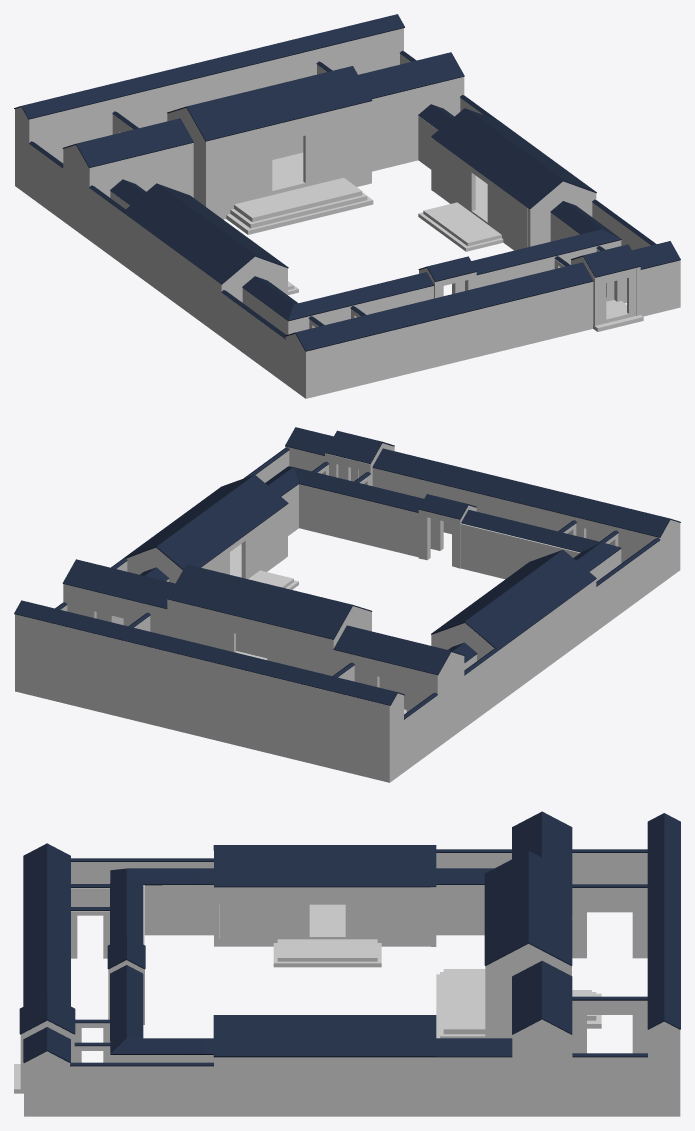
Rendered from mesh_complex.fbx.
3 views of the same model, one above another, from view 1: azimuth 30°, elevation 25°; view 2: azimuth 150°, elevation 25°; view 3: azimuth 270°, elevation 25° (orthographic). The views are drawn at different scales.
Visible parts, largest first — view 1: polySurface2690, polySurface2737, polySurface2688, hwall32, polySurface2713, pCube10, polySurface2684, hwall, hwall37, hwall16, sbuildingwall_inner, polySurface2702 (+29 smaller); view 2: polySurface2690, fence_back, polySurface2703, polySurface2713, hwall42, pCube10, polySurface2698, hwall9, polySurface2704, polySurface2760, polySurface2680, pCube79 (+23 smaller); view 3: fence_side, polySurface2676, pCube14, polySurface2730, polySurface2690, pCube35, polySurface2699, polySurface2710, hallway_inner11, polySurface2726, polySurface2702, polySurface2695 (+31 smaller).
Boxes of the visible parts, x1,y1,x2,y2 form: polySurface2690: [15, 107, 305, 398]; polySurface2737: [305, 306, 493, 398]; polySurface2688: [30, 74, 216, 163]; hwall32: [287, 101, 371, 190]; polySurface2713: [123, 183, 255, 284]; pCube10: [431, 108, 562, 209]; polySurface2684: [205, 121, 288, 219]; hwall: [216, 28, 402, 98]; hwall37: [493, 281, 593, 352]; hwall16: [372, 78, 460, 171]; sbuildingwall_inner: [433, 139, 527, 250]; polySurface2702: [295, 286, 493, 351]; polySurface2690: [385, 520, 680, 782]; fence_back: [16, 615, 202, 736]; polySurface2703: [202, 660, 388, 781]; polySurface2713: [465, 550, 596, 650]; hwall42: [299, 484, 418, 557]; pCube10: [156, 475, 288, 569]; polySurface2698: [250, 620, 439, 746]; hwall9: [67, 585, 250, 652]; polySurface2704: [472, 473, 670, 537]; polySurface2760: [452, 518, 580, 579]; polySurface2680: [250, 584, 352, 639]; pCube79: [167, 564, 269, 619]; fence_side: [24, 1019, 680, 1116]; polySurface2676: [219, 887, 430, 946]; pCube14: [213, 1015, 436, 1057]; polySurface2730: [214, 845, 436, 887]; polySurface2690: [71, 853, 647, 912]; pCube35: [110, 965, 213, 1054]; polySurface2699: [110, 868, 213, 944]; polySurface2710: [144, 885, 213, 935]; hallway_inner11: [485, 944, 571, 1038]; polySurface2726: [572, 888, 647, 958]; polySurface2702: [23, 843, 47, 958]; polySurface2695: [436, 885, 484, 935].
Size of the model in its own units: 18.09 by 4.77 by 24.58.
